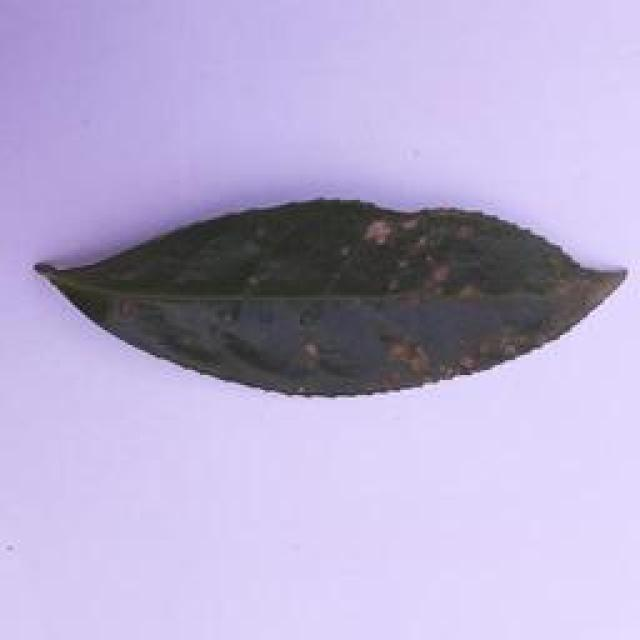Algal Leaf Spot: (20, 190, 640, 407)
